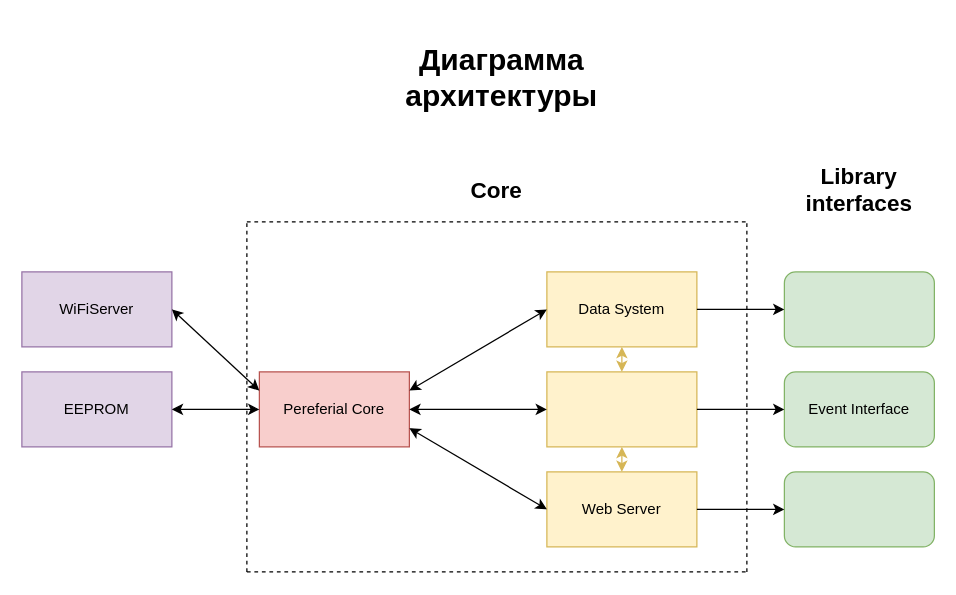
Some shapes in this 956 by 595 pixel diagram are drawn without their labels. The box of each missing label's shape, as (x1, y1, x2, y2) in pixels:
Event System: (546, 371, 697, 447)
State Interface: (783, 271, 934, 347)
Web-Editor System: (783, 471, 934, 547)
